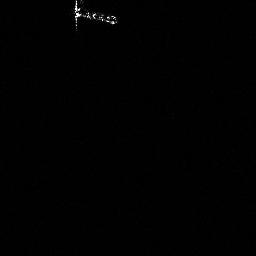ship: (72, 1, 119, 32)
